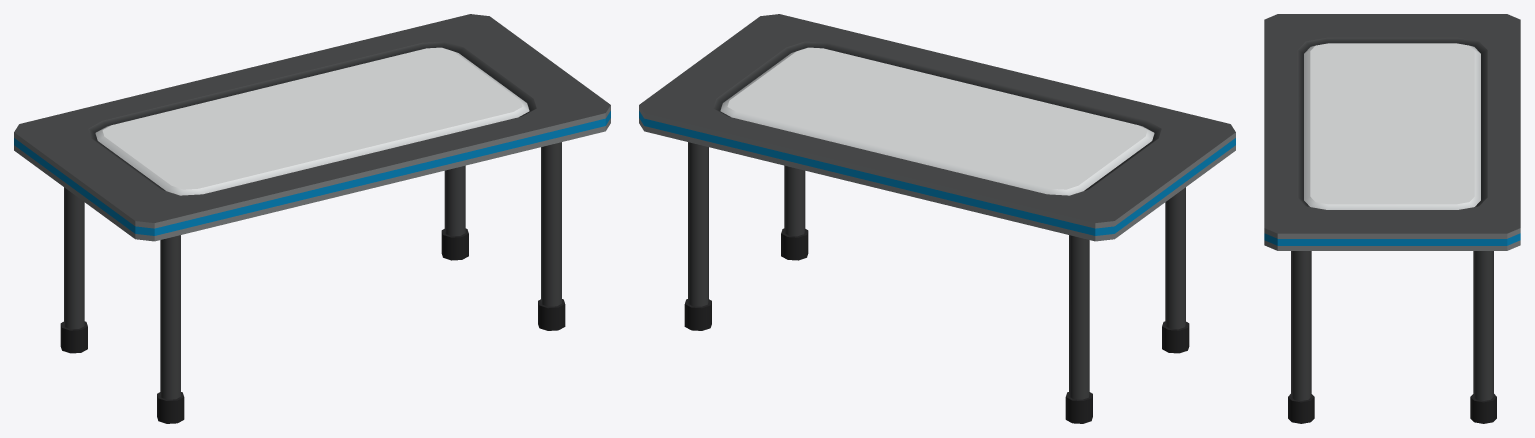
The model's file is Desk_034.fbx.
3 views of the same model, side by side, from view 1: azimuth 30°, elevation 25°; view 2: azimuth 150°, elevation 25°; view 3: azimuth 270°, elevation 25° (orthographic). The views are drawn at different scales.
Parts seen in each view (by area): view 1: Desk_034; view 2: Desk_034; view 3: Desk_034.
Boxes of the visible parts, bbox=[...] form: Desk_034: bbox=[14, 14, 610, 423]; Desk_034: bbox=[639, 14, 1235, 423]; Desk_034: bbox=[1264, 14, 1520, 423].
Bounding box in the file's own units: 200 × 98.45 × 87.47.
